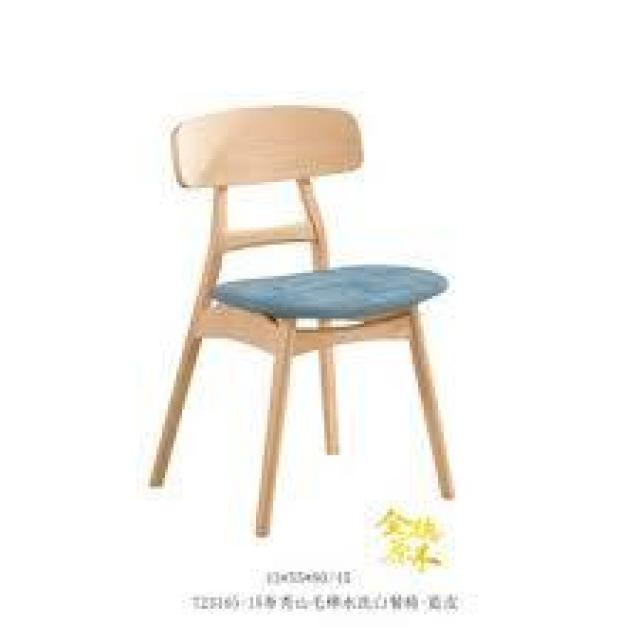chair: (113, 80, 500, 534)
